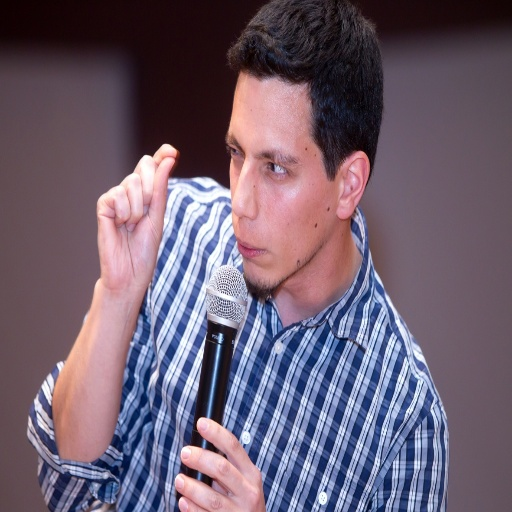hand: (97, 141, 176, 290), (173, 416, 264, 510)
